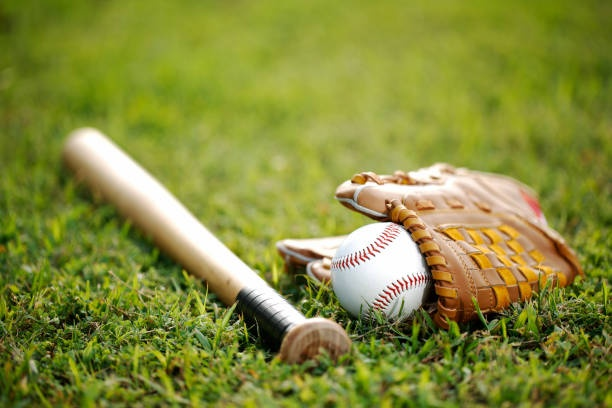bita: (60, 121, 337, 368)
